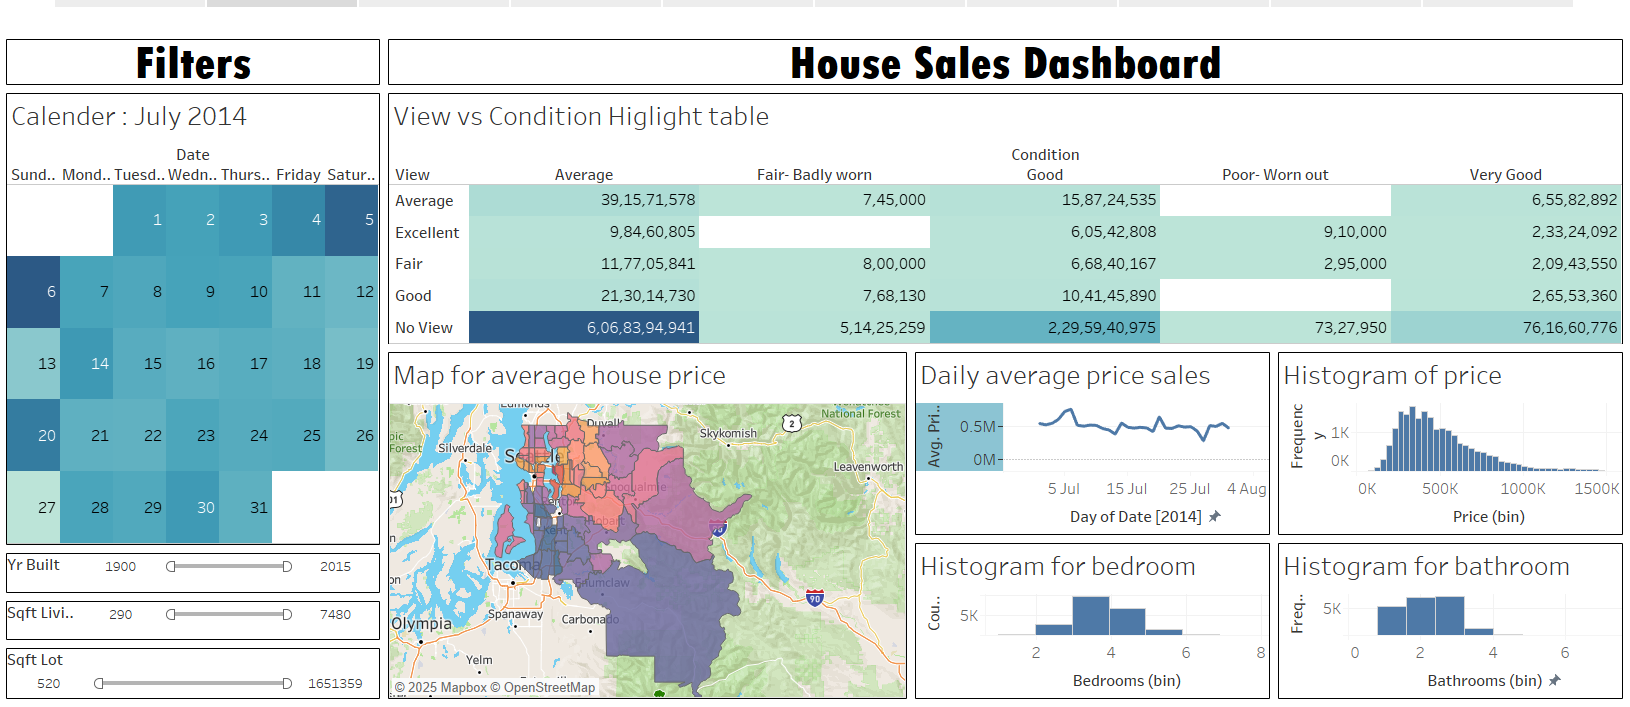

The page's visual inventory and layout, read from the dashboard file:
{"tool":"tableau","page":{"name":"Dashboard 1","canvas":[1000,1000],"units":"permille","ordinal":1},"visuals":[{"type":"text","box":[4.8,10,232.9,78.6]},{"type":"text","box":[237.8,10,757.4,78.6]},{"type":"worksheet","title":"Calender","mark":"Square","rows":["date"],"cols":["date"],"box":[4.8,88.6,232.9,675.4]},{"type":"worksheet","title":"View vs Condition Higlight table ","mark":"Square","rows":["view"],"cols":["condition"],"box":[237.8,88.6,757.4,380.8]},{"type":"worksheet","title":"Map for average house price","mark":"Automatic","box":[237.8,469.4,321.1,520.6]},{"type":"worksheet","title":"Daily average price sales","mark":"Automatic","rows":["price"],"cols":["date"],"box":[558.8,469.4,221.5,279.7]},{"type":"worksheet","title":"Histogram of price","mark":"Automatic","rows":["price"],"cols":["Price (bin)"],"box":[780.3,469.4,214.9,279.7]},{"type":"worksheet","title":"Histogram for bedroom","mark":"Automatic","rows":["bedrooms"],"cols":["Bedrooms (bin)"],"box":[558.8,749.1,221.5,241]},{"type":"worksheet","title":"Histogram for bathroom","mark":"Automatic","rows":["bathrooms"],"cols":["Bathrooms (bin)"],"box":[780.3,749.1,214.9,241]},{"type":"filter","title":"Calender","param":"[federated.10244jj1c8rdk017nwids03o1udw].[none:yr_built:qk]","box":[4.8,764,232.9,70.9]},{"type":"filter","title":"Calender","param":"[federated.10244jj1c8rdk017nwids03o1udw].[none:sqft_living:qk]","box":[4.8,834.9,232.9,68.9]},{"type":"filter","title":"Calender","param":"[federated.10244jj1c8rdk017nwids03o1udw].[none:sqft_lot:qk]","box":[4.8,903.8,232.9,86.2]}]}

Visuals, with their boxes on the dashboard's canvas, which has no fixed pixel size, in thousandths of its width and height (x1, y1, x2, y2). These are canvas units, not pixel positions in the 1630x707 screenshot, which may show the page scaled, cropped or inside an application window:
text: (left=5, top=10, right=238, bottom=89)
text: (left=238, top=10, right=995, bottom=89)
"Calender" worksheet (Square marks): (left=5, top=89, right=238, bottom=764)
"View vs Condition Higlight table " worksheet (Square marks): (left=238, top=89, right=995, bottom=469)
"Map for average house price" worksheet: (left=238, top=469, right=559, bottom=990)
"Daily average price sales" worksheet: (left=559, top=469, right=780, bottom=749)
"Histogram of price" worksheet: (left=780, top=469, right=995, bottom=749)
"Histogram for bedroom" worksheet: (left=559, top=749, right=780, bottom=990)
"Histogram for bathroom" worksheet: (left=780, top=749, right=995, bottom=990)
"Calender" filter: (left=5, top=764, right=238, bottom=835)
"Calender" filter: (left=5, top=835, right=238, bottom=904)
"Calender" filter: (left=5, top=904, right=238, bottom=990)
